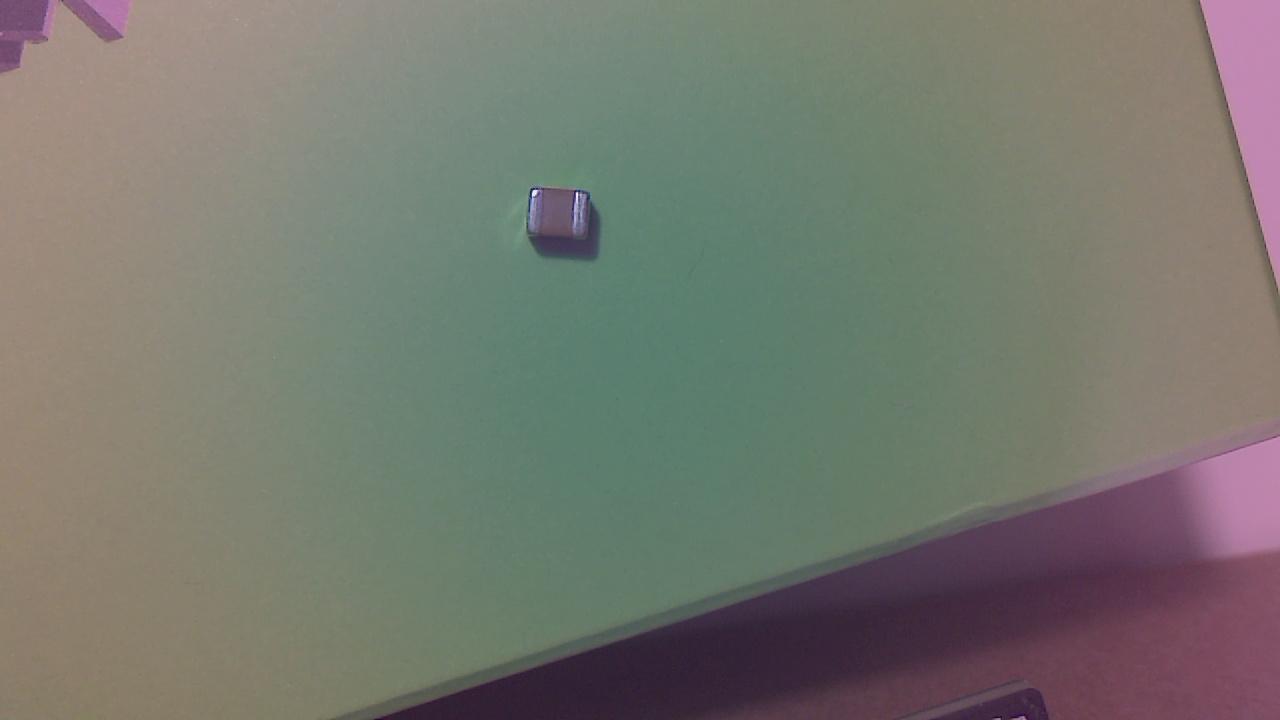Condensator: (529, 189, 601, 250)
